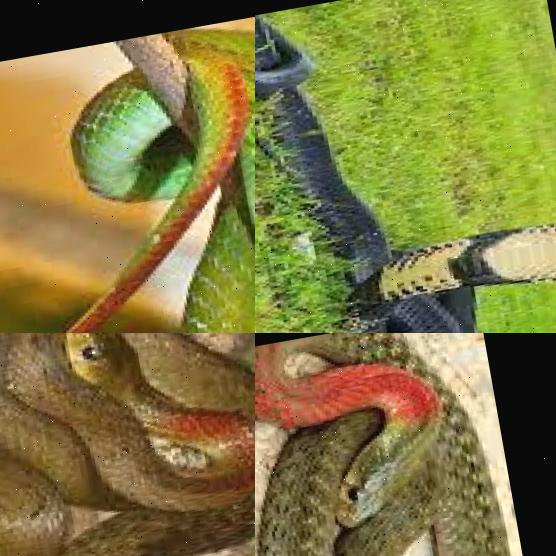snake: (255, 0, 556, 333), (0, 0, 255, 333), (255, 333, 556, 556), (0, 333, 255, 556)
